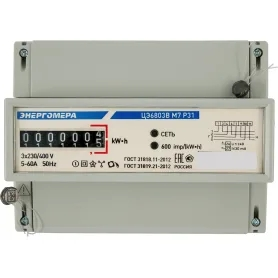counter: (2, 33, 277, 236)
counter_screen: (18, 128, 107, 149)
